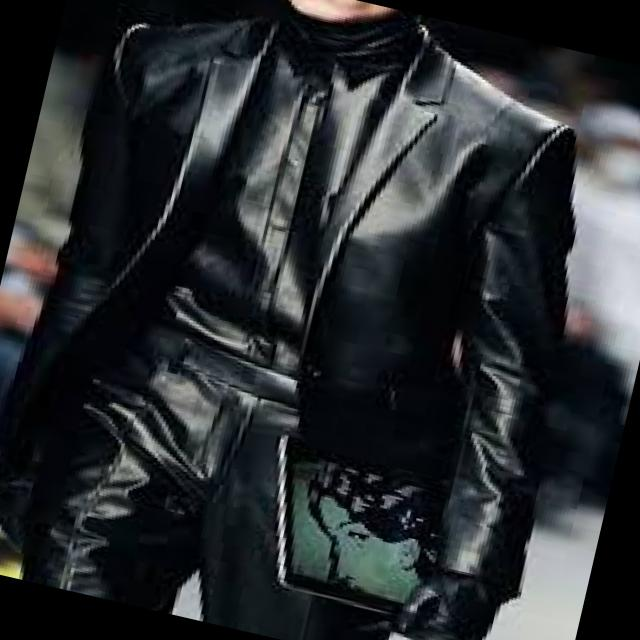Jacket: (0, 0, 604, 623)
